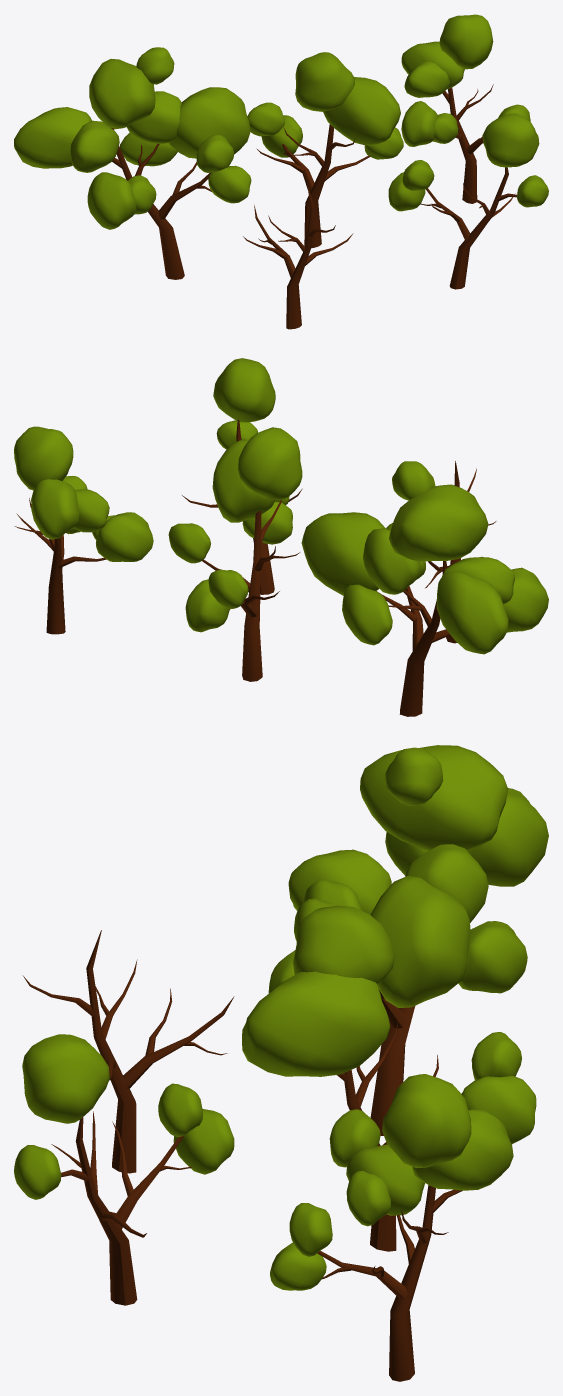
File: tree.glb
3 renders of one model, top to bottom at view 1: azimuth 30°, elevation 25°; view 2: azimuth 150°, elevation 25°; view 3: azimuth 270°, elevation 25°, orthographic. The views are drawn at different scales.
Parts seen in each view (by area): view 1: default2_Material_0, default3_Material_0, default1_Material_0, default4_Material_0, default_Material_0; view 2: default2_Material_0, default3_Material_0, default1_Material_0, default4_Material_0; view 3: default2_Material_0, default3_Material_0, default1_Material_0, default4_Material_0, default_Material_0.
Part boxes in pixels (box(x1,y1,x2,y2)): default2_Material_0: box(14, 47, 251, 279); default3_Material_0: box(247, 52, 403, 248); default1_Material_0: box(401, 14, 530, 203); default4_Material_0: box(388, 113, 548, 289); default_Material_0: box(243, 184, 353, 329); default2_Material_0: box(301, 461, 548, 716); default3_Material_0: box(168, 427, 302, 681); default1_Material_0: box(14, 426, 153, 634); default4_Material_0: box(182, 358, 302, 594); default2_Material_0: box(268, 745, 548, 1135); default3_Material_0: box(242, 905, 536, 1251); default1_Material_0: box(270, 1074, 513, 1381); default4_Material_0: box(14, 1034, 234, 1305); default_Material_0: box(22, 930, 234, 1173).
Size of the model in its own units: 0.2497 by 0.1173 by 0.1499.
Materials: 1 (1 with a texture image).
